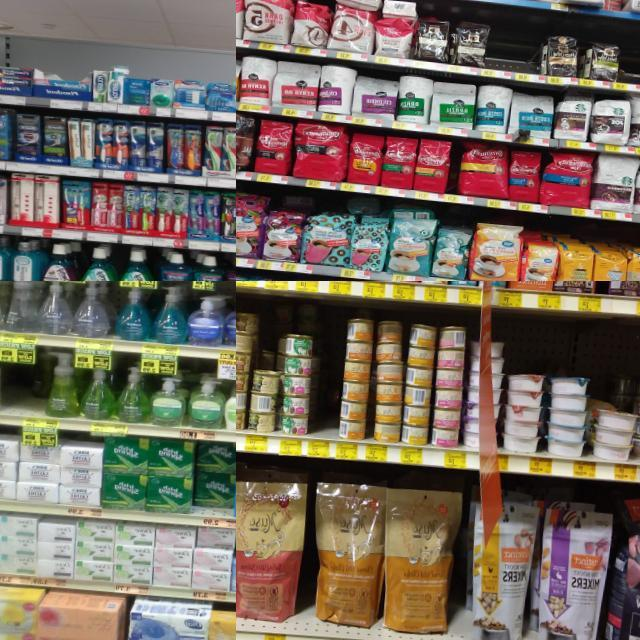empty: (308, 305, 346, 458), (484, 34, 544, 80), (0, 362, 31, 425), (617, 45, 640, 91)
